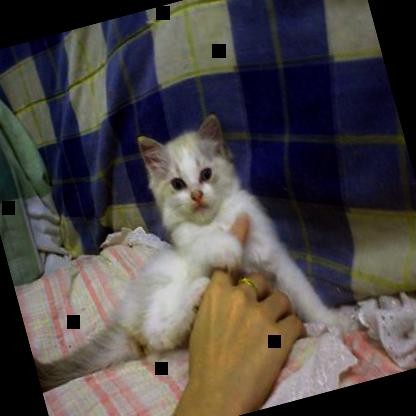cat: (0, 92, 339, 402)
